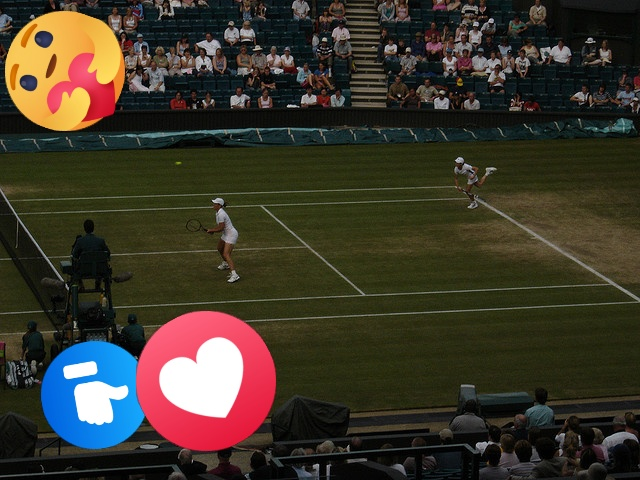care: (5, 11, 125, 131)
like: (41, 341, 149, 449)
love: (136, 311, 276, 451)
